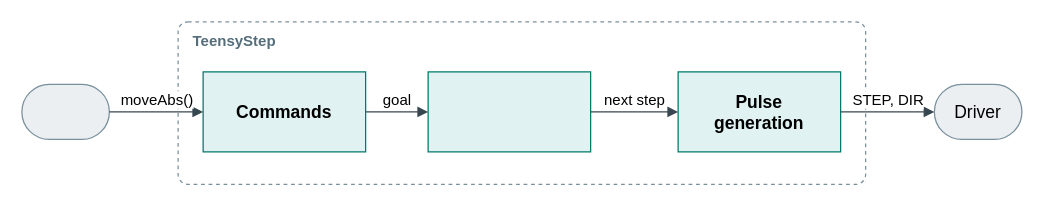
The diagram is 1044 pixels wide and 206 high, and some of its shapes have lost their labels. The shapes that lost their labels are listed below. From the top down, each one's box as (x1, y1, x2, y2) in pixels, then its label:
(21, 83, 109, 139): Sketch
(427, 71, 591, 152): Motion calculation
